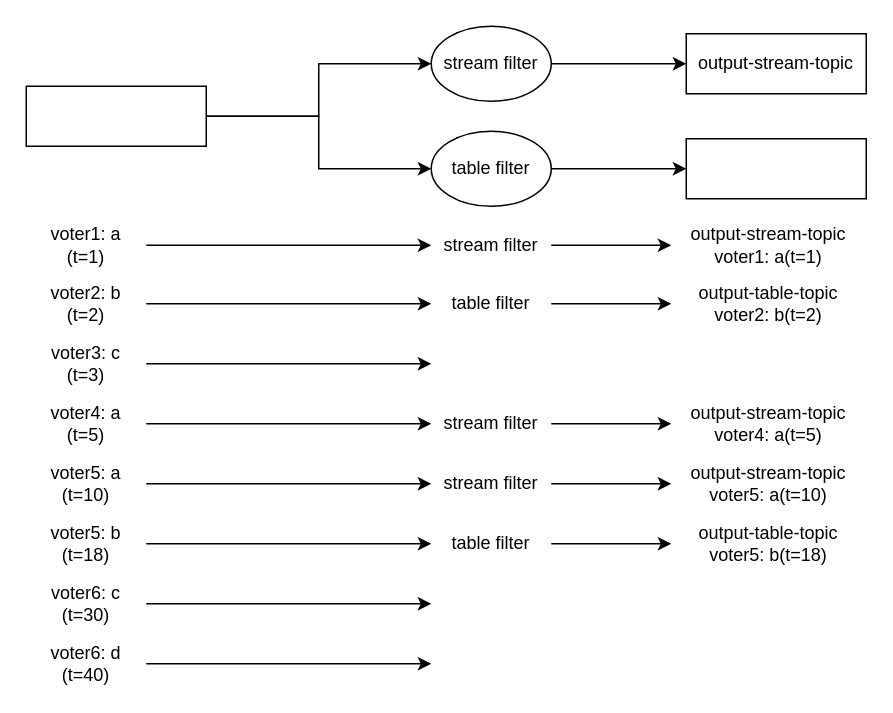
Some shapes in this 893 by 713 pixel diagram are drawn without their labels. The shapes that lost their labels are listed below. From the top down, each one's box as (x1, y1, x2, y2) in pixels, then its label:
(25, 85, 206, 146): input-topic
(685, 137, 866, 199): output-table-topic
